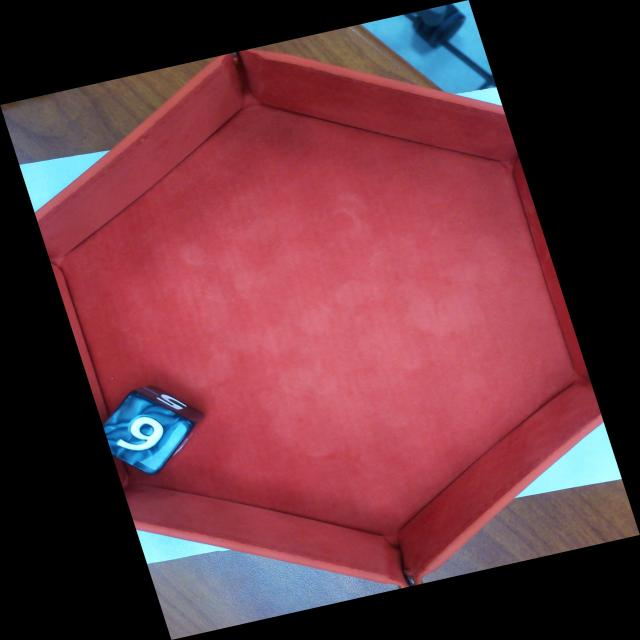dice: (86, 390, 199, 479)
